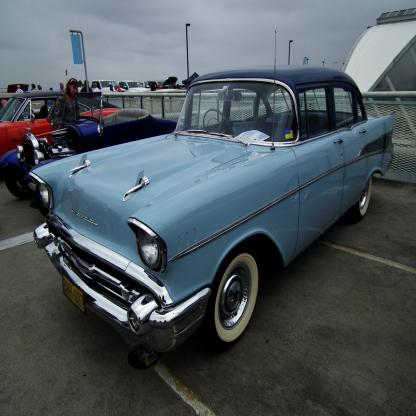Car: (0, 30, 396, 370)
